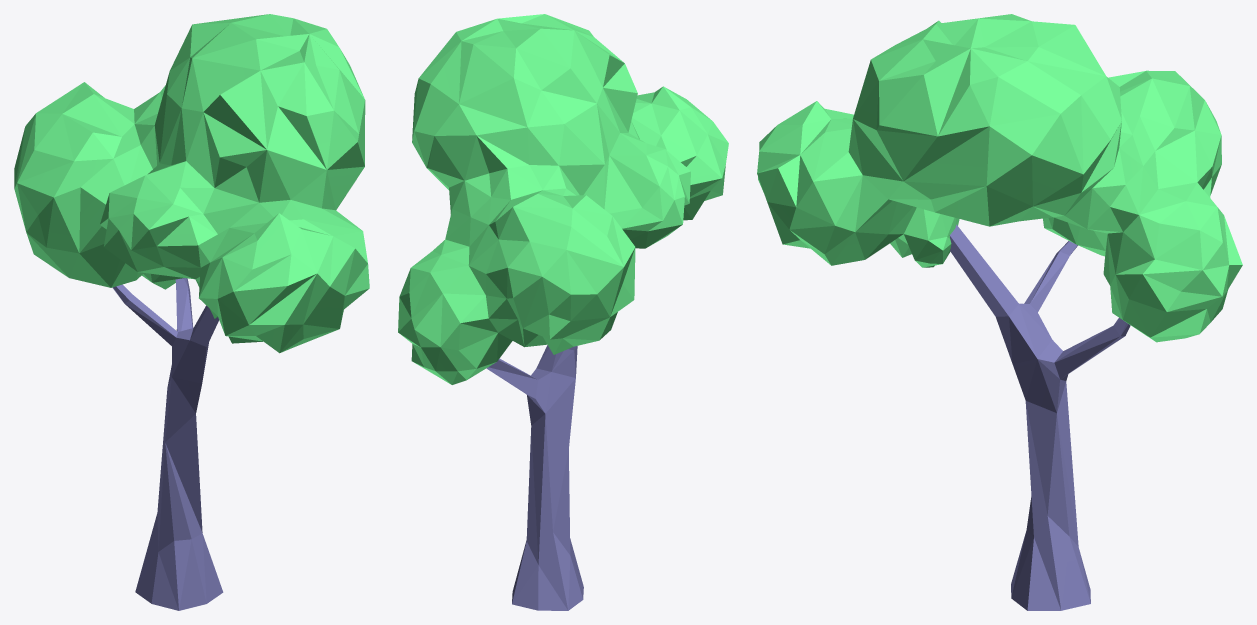
The model's file is SM_Tree_07.fbx.
3 renders of one model, left to right at view 1: azimuth 30°, elevation 25°; view 2: azimuth 150°, elevation 25°; view 3: azimuth 270°, elevation 25°, orthographic. The views are drawn at different scales.
Visible parts, largest first — view 1: _3_tree; view 2: _3_tree; view 3: _3_tree.
Boxes of the visible parts, x1,y1,x2,y2 form: _3_tree: (14,14,369,610); _3_tree: (398,14,728,610); _3_tree: (757,14,1242,610).
Size of the model in its own units: 363 by 722 by 533.
